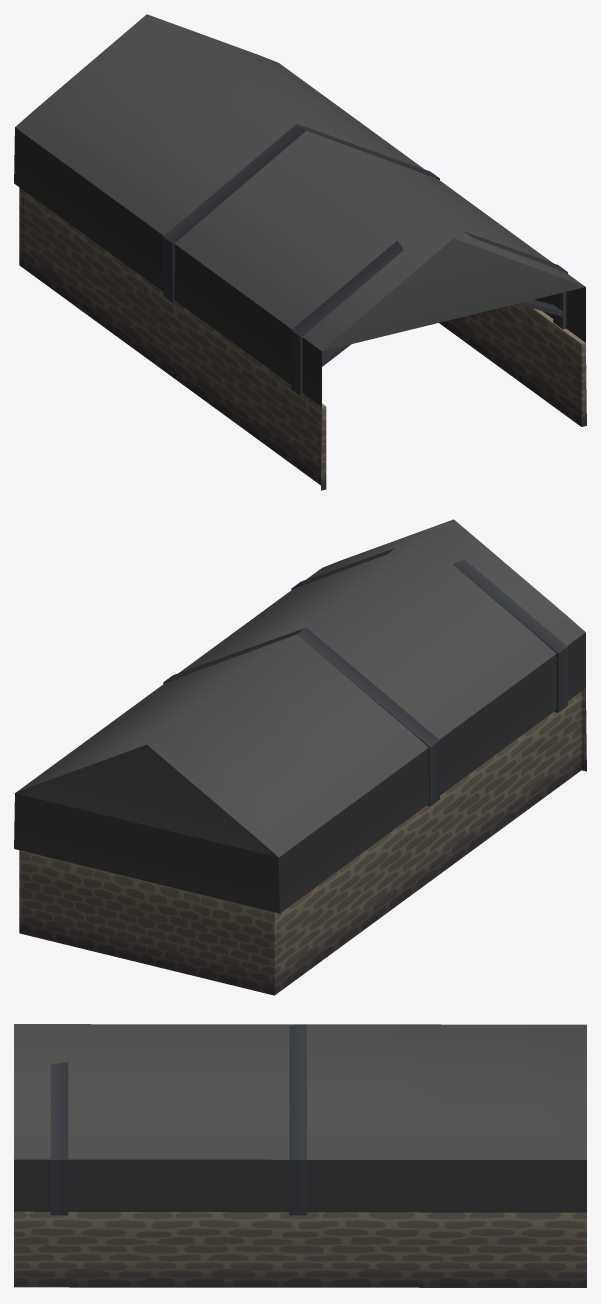
File: Hangar.fbx
The picture shows the model from 3 angles, top to bottom: view 1: azimuth 30°, elevation 25°; view 2: azimuth 150°, elevation 25°; view 3: azimuth 270°, elevation 25°; orthographic projection. The views are drawn at different scales.
Visible parts, largest first — view 1: Interieur, Exterieur, Poutres; view 2: Interieur, Exterieur, Poutres; view 3: Interieur, Exterieur, Poutres.
Boxes of the visible parts, <box> form: Interieur: <box>14,14,586,490</box>; Exterieur: <box>19,58,586,489</box>; Poutres: <box>163,124,567,395</box>; Interieur: <box>14,519,586,995</box>; Exterieur: <box>14,521,586,995</box>; Poutres: <box>163,548,567,806</box>; Interieur: <box>14,1024,586,1287</box>; Exterieur: <box>14,1025,586,1287</box>; Poutres: <box>50,1024,306,1215</box>.
Bounding box in the file's own units: 475 × 374 × 945.
